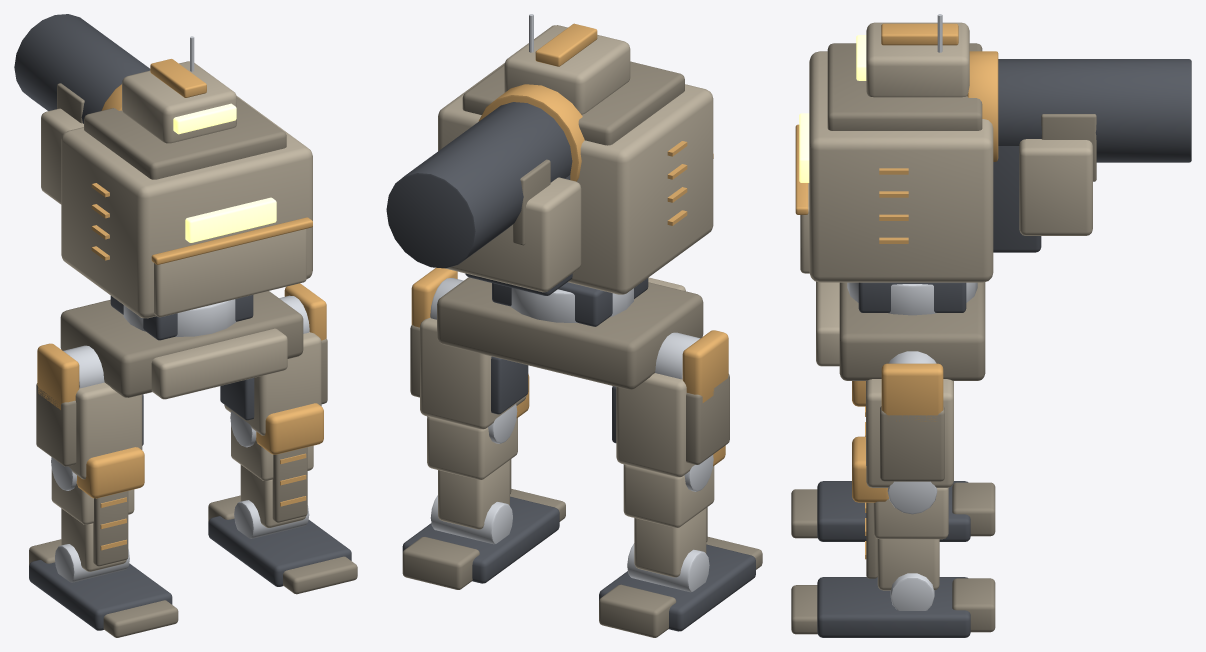
The model's file is artillery.glb.
The picture shows the model from 3 angles, left to right: view 1: azimuth 30°, elevation 25°; view 2: azimuth 150°, elevation 25°; view 3: azimuth 270°, elevation 25°; orthographic projection. The views are drawn at different scales.
Visible parts, largest first — view 1: ART_torso_shell, ART_torso_plate, ART_torso_dark, ART_head_shell, ART_foot_r_dark, ART_foot_l_dark, ART_leg_r_trim, ART_leg_r_shell, ART_leg_l_shell, ART_leg_l_trim, ART_torso_trim, ART_knee_r_shell (+15 smaller); view 2: ART_torso_shell, ART_torso_plate, ART_torso_dark, ART_knee_r_shell, ART_knee_l_shell, ART_leg_r_shell, ART_head_shell, ART_leg_l_shell, ART_foot_l_dark, ART_foot_r_dark, ART_foot_l_plate, ART_foot_r_plate (+12 smaller); view 3: ART_torso_shell, ART_torso_dark, ART_torso_plate, ART_foot_l_dark, ART_head_shell, ART_knee_l_shell, ART_leg_l_trim, ART_leg_l_plate, ART_torso_trim, ART_foot_r_dark, ART_foot_l_plate, ART_foot_r_plate (+7 smaller).
Part boxes in pixels (bbox=[...]): ART_torso_shell: bbox=[41, 96, 312, 399]; ART_torso_plate: bbox=[57, 83, 303, 397]; ART_torso_dark: bbox=[14, 14, 253, 340]; ART_head_shell: bbox=[122, 61, 236, 143]; ART_foot_r_dark: bbox=[29, 560, 172, 630]; ART_foot_l_dark: bbox=[208, 516, 351, 586]; ART_leg_r_trim: bbox=[37, 343, 144, 498]; ART_leg_r_shell: bbox=[68, 382, 142, 479]; ART_leg_l_shell: bbox=[224, 332, 321, 435]; ART_leg_l_trim: bbox=[256, 283, 326, 454]; ART_torso_trim: bbox=[91, 84, 312, 264]; ART_knee_r_shell: bbox=[51, 469, 134, 571]; ART_torso_shell: bbox=[438, 63, 713, 294]; ART_torso_plate: bbox=[437, 61, 703, 389]; ART_torso_dark: bbox=[386, 102, 648, 326]; ART_knee_r_shell: bbox=[623, 464, 714, 577]; ART_knee_l_shell: bbox=[427, 416, 517, 529]; ART_leg_r_shell: bbox=[616, 373, 694, 477]; ART_head_shell: bbox=[504, 25, 630, 114]; ART_leg_l_shell: bbox=[420, 317, 526, 429]; ART_foot_l_dark: bbox=[402, 496, 559, 583]; ART_foot_r_dark: bbox=[599, 544, 755, 631]; ART_foot_l_plate: bbox=[402, 489, 565, 589]; ART_foot_r_plate: bbox=[599, 537, 762, 637]; ART_torso_shell: bbox=[800, 51, 1092, 366]; ART_torso_dark: bbox=[858, 59, 1191, 312]; ART_torso_plate: bbox=[827, 43, 1096, 380]; ART_foot_l_dark: bbox=[817, 577, 970, 637]; ART_head_shell: bbox=[866, 22, 969, 97]; ART_knee_l_shell: bbox=[873, 487, 948, 590]; ART_leg_l_trim: bbox=[852, 363, 943, 502]; ART_leg_l_plate: bbox=[880, 406, 944, 481]; ART_torso_trim: bbox=[795, 51, 998, 243]; ART_foot_r_dark: bbox=[817, 481, 970, 541]; ART_foot_l_plate: bbox=[791, 578, 995, 634]; ART_foot_r_plate: bbox=[791, 482, 995, 538].
Bounding box in the file's own units: 2.95 × 5.52 × 3.52.
